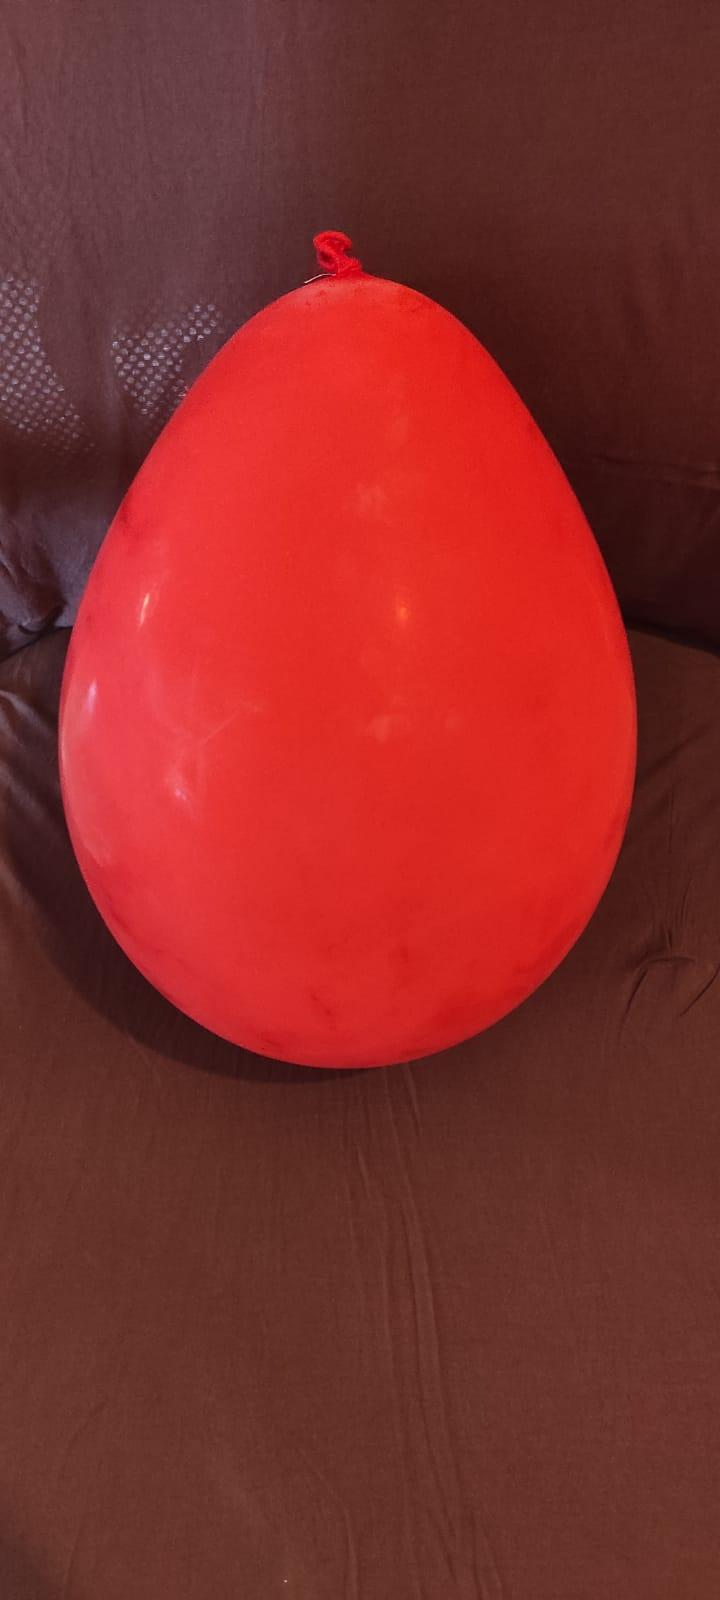red: (51, 217, 645, 1073)
